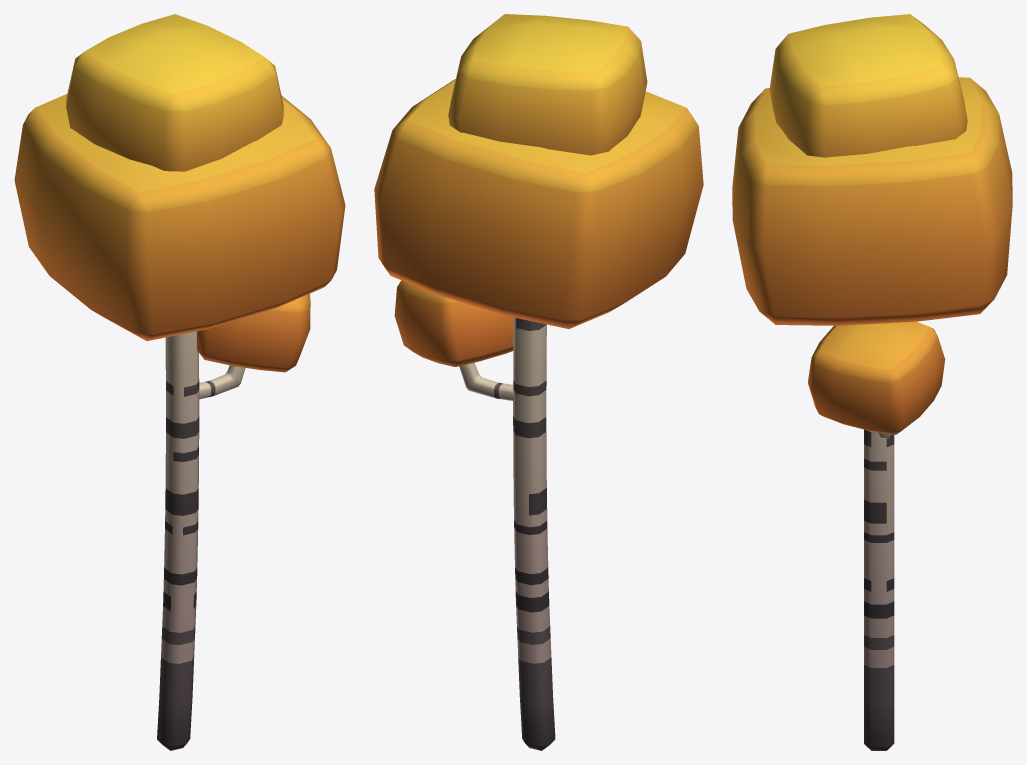
The model's file is birch_tree_col2_04.fbx.
The picture shows the model from 3 angles, left to right: view 1: azimuth 30°, elevation 25°; view 2: azimuth 150°, elevation 25°; view 3: azimuth 270°, elevation 25°; orthographic projection.
Parts seen in each view (by area): view 1: birch_tree_col2_04; view 2: birch_tree_col2_04; view 3: birch_tree_col2_04.
Boxes of the visible parts, <box> form: birch_tree_col2_04: <box>14,14,345,750</box>; birch_tree_col2_04: <box>374,14,703,750</box>; birch_tree_col2_04: <box>732,14,1012,750</box>.
Bounding box in the file's own units: 365 × 975 × 351.
Materials: 1 (1 with a texture image).
